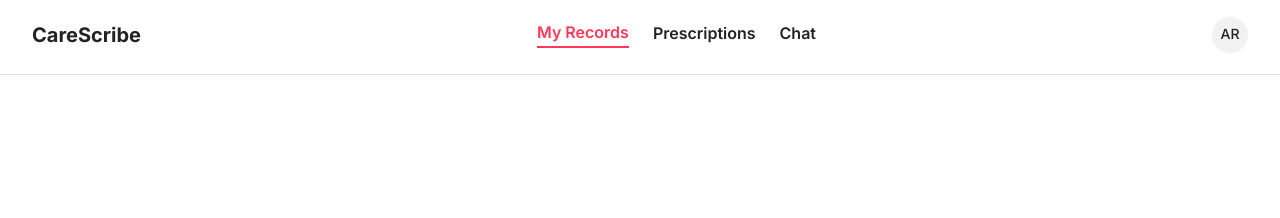
Scenario: TopNav › opens the avatar dropdown with sign out
The image size is (1280, 218).
Click the button with aria-label "Account menu": [1230, 34] box [1212, 16, 1248, 52]
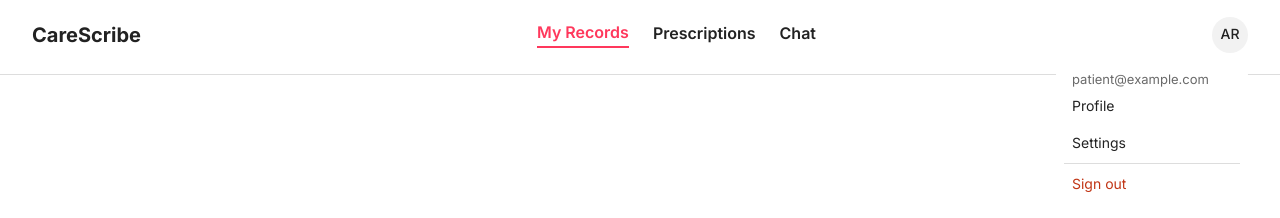
Check: the button "Sign out" is shown, box [1064, 166, 1240, 202]
Check: the button "Profile" is shown, box [1064, 88, 1240, 124]
Check: the button "Settings" is shown, box [1064, 124, 1240, 160]
